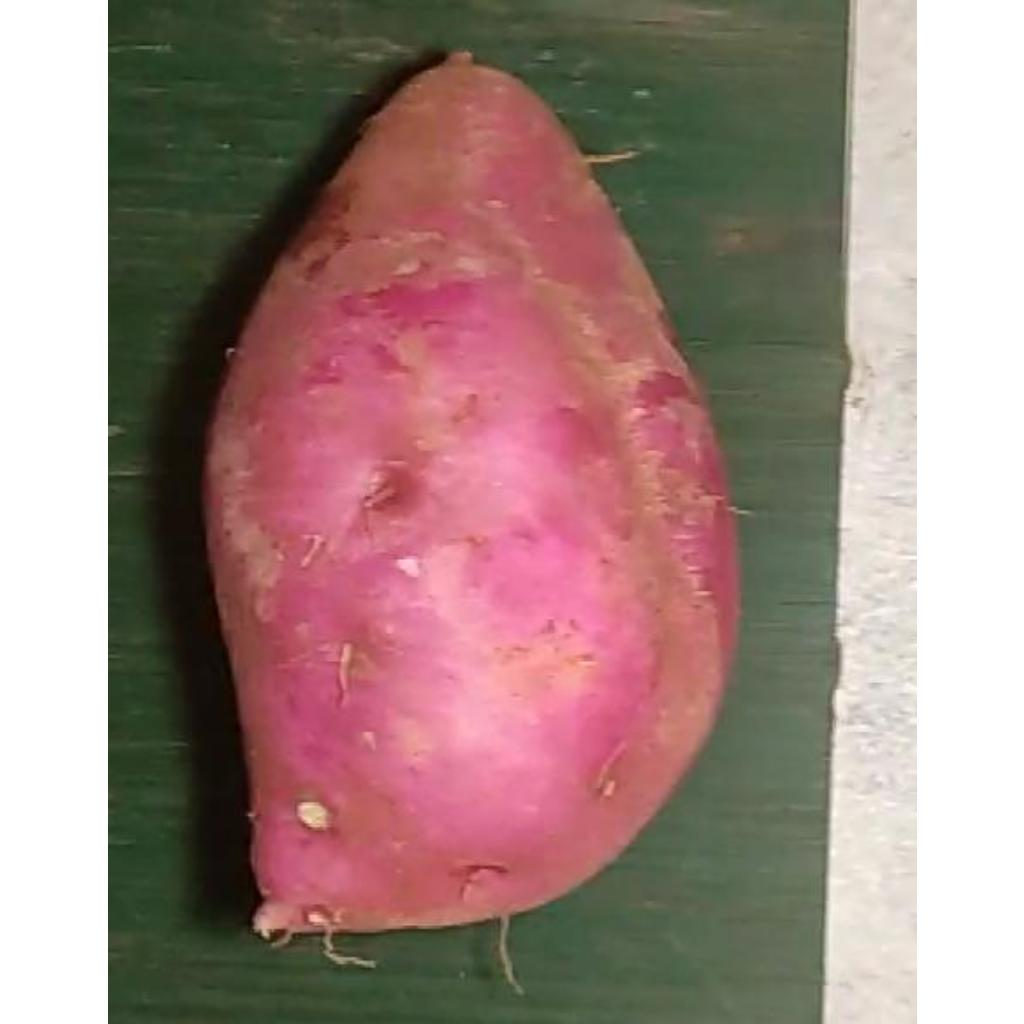Sweet Potato: (213, 60, 739, 947)
